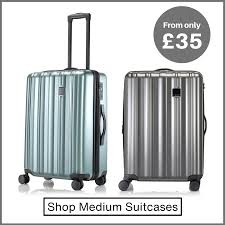suitcase: (17, 12, 110, 191), (118, 67, 210, 193)
